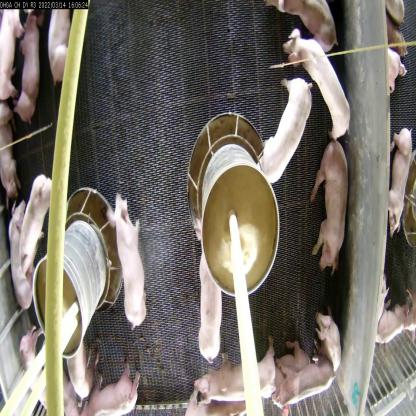Pig: (282, 22, 356, 136), (257, 76, 314, 189), (310, 125, 350, 283), (194, 235, 241, 365), (111, 181, 149, 332), (71, 349, 145, 415), (270, 349, 333, 415), (0, 200, 35, 316), (20, 166, 52, 286), (206, 355, 276, 409), (13, 13, 42, 123), (41, 0, 78, 77), (319, 319, 349, 384)
